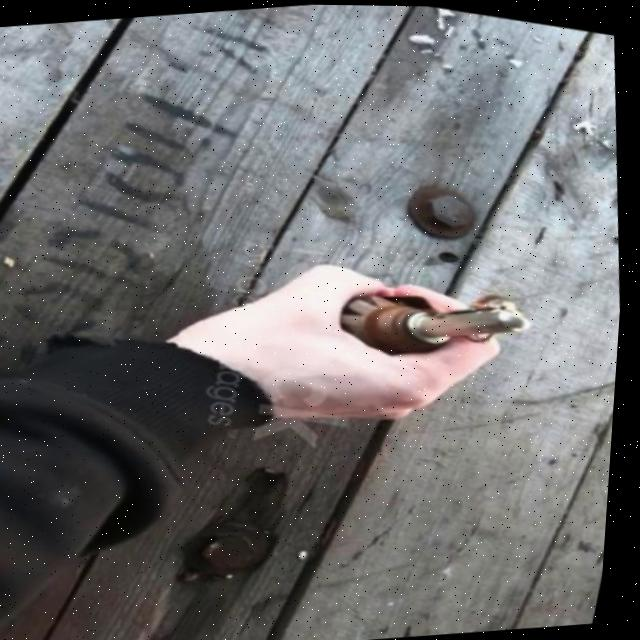grenade: (328, 258, 550, 388)
